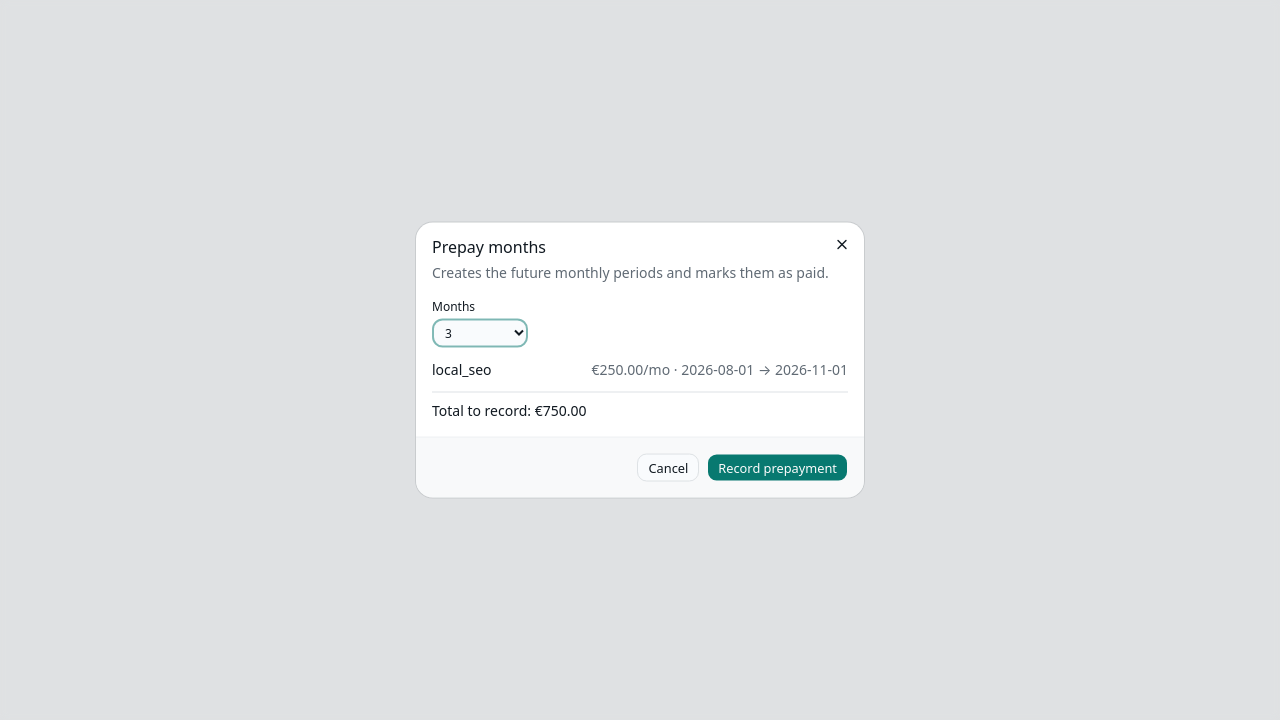
Scenario: PrepayDialog › confirm records the prepayment (dryRun false) and shows the result
Click the button "Record prepayment". click: (778,468)
box: [707, 454, 848, 482]
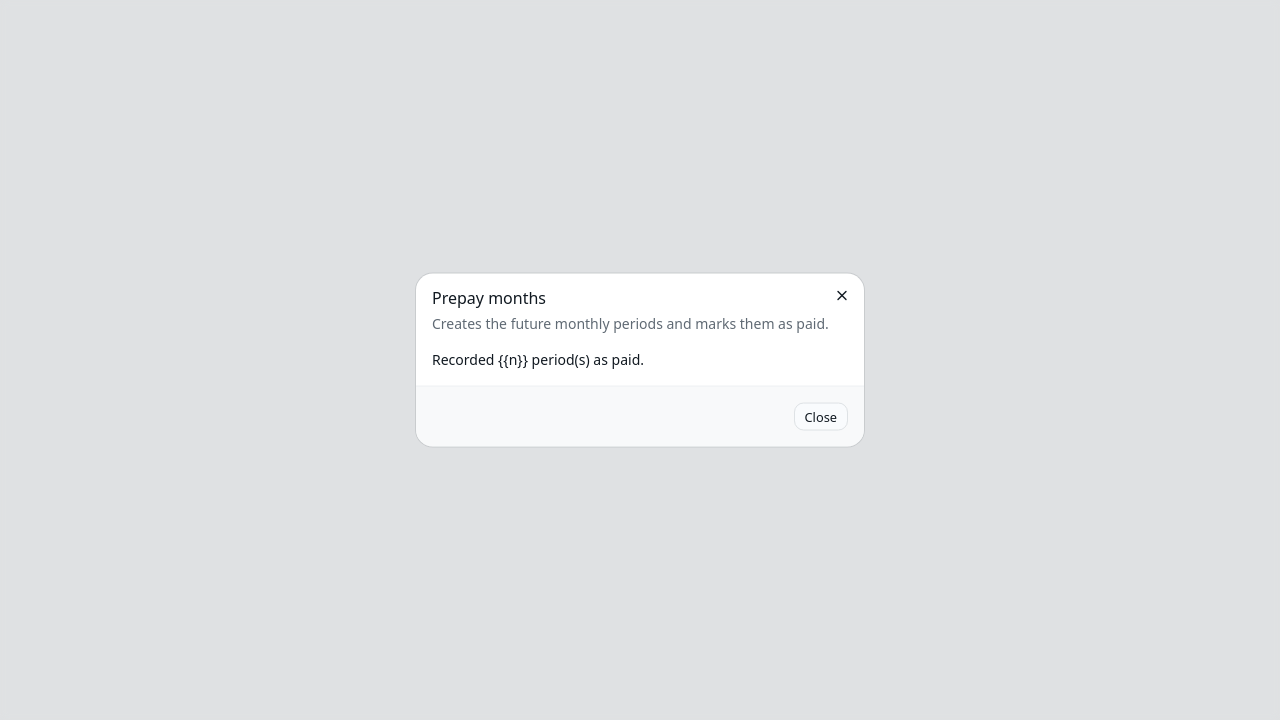
Expected: the text "Recorded {{n}} period(s) as paid." is shown, [432, 350, 644, 368]
